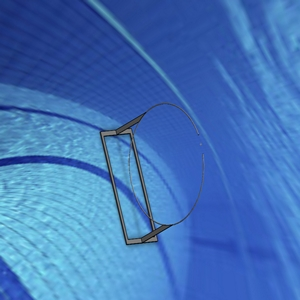circle: (97, 101, 207, 246)
